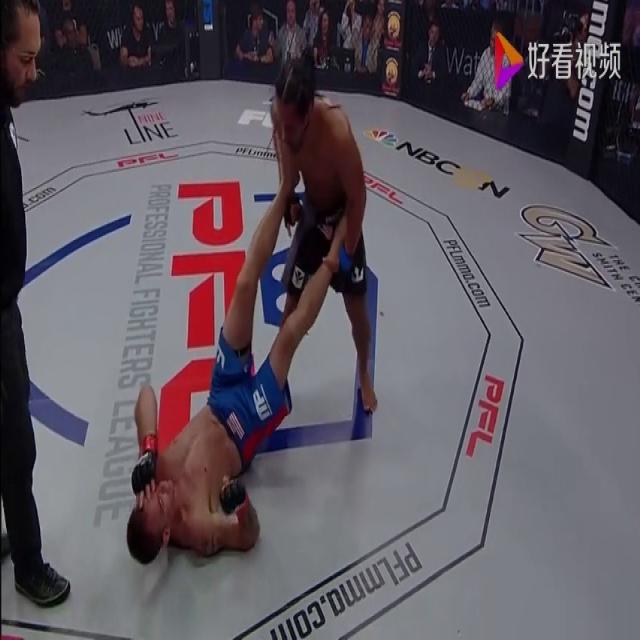fight: (120, 8, 387, 575)
